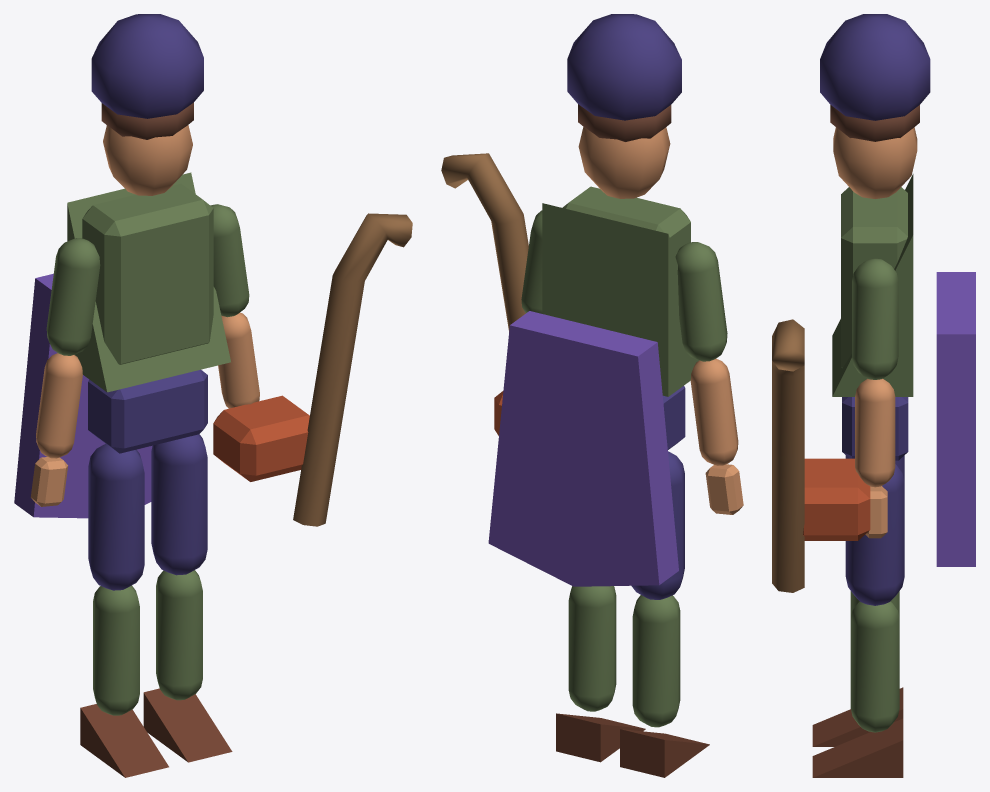
File: adventurer.rustic.glb
The picture shows the model from 3 angles, left to right: view 1: azimuth 30°, elevation 25°; view 2: azimuth 150°, elevation 25°; view 3: azimuth 270°, elevation 25°; orthographic projection.
Visible parts, largest first — view 1: torso, accessory.main-hand, accessory.head, accessory.back, thigh.left, pelvis, thigh.right, accessory.waist, tunic, shin.left, shin.right, upper-arm.left (+8 smaller); view 2: accessory.back, tunic, accessory.head, shin.left, shin.right, accessory.main-hand, upper-arm.left, head, forearm.left, torso, foot.left, foot.right (+5 smaller); view 3: accessory.back, accessory.head, accessory.main-hand, shin.right, torso, upper-arm.right, accessory.waist, thigh.right, head, tunic, forearm.right, foot.right (+4 smaller).
Boxes of the visible parts, left/top/right/bottom form: torso: left=82, top=184, right=213, bottom=364; accessory.main-hand: left=293, top=213, right=412, bottom=526; accessory.head: left=91, top=14, right=203, bottom=118; accessory.back: left=14, top=273, right=152, bottom=518; thigh.left: left=88, top=443, right=144, bottom=590; pelvis: left=88, top=369, right=207, bottom=453; thigh.right: left=151, top=434, right=207, bottom=575; accessory.waist: left=213, top=395, right=309, bottom=481; tunic: left=67, top=172, right=230, bottom=392; shin.left: left=93, top=585, right=139, bottom=715; shin.right: left=156, top=570, right=202, bottom=700; upper-arm.left: left=46, top=238, right=100, bottom=355; accessory.back: left=488, top=311, right=678, bottom=586; tunic: left=542, top=203, right=698, bottom=396; accessory.head: left=567, top=14, right=681, bottom=120; shin.left: left=632, top=595, right=680, bottom=727; shin.right: left=568, top=586, right=616, bottom=711; accessory.main-hand: left=441, top=153, right=528, bottom=331; upper-arm.left: left=675, top=242, right=727, bottom=361; head: left=578, top=127, right=670, bottom=198; forearm.left: left=690, top=358, right=738, bottom=465; torso: left=562, top=186, right=690, bottom=256; foot.left: left=620, top=729, right=709, bottom=777; foot.right: left=556, top=713, right=645, bottom=762; accessory.back: left=936, top=272, right=975, bottom=566; accessory.head: left=820, top=14, right=930, bottom=120; accessory.main-hand: left=772, top=319, right=804, bottom=592; shin.right: left=850, top=601, right=899, bottom=732; torso: left=841, top=187, right=907, bottom=367; upper-arm.right: left=852, top=258, right=898, bottom=379; accessory.waist: left=803, top=458, right=870, bottom=540; thigh.right: left=845, top=464, right=904, bottom=605; head: left=833, top=127, right=917, bottom=198; tunic: left=832, top=174, right=913, bottom=396; forearm.right: left=855, top=378, right=895, bottom=487; foot.right: left=812, top=718, right=903, bottom=777.
Size of the model in its own units: 1.58 by 3.29 by 0.83.
